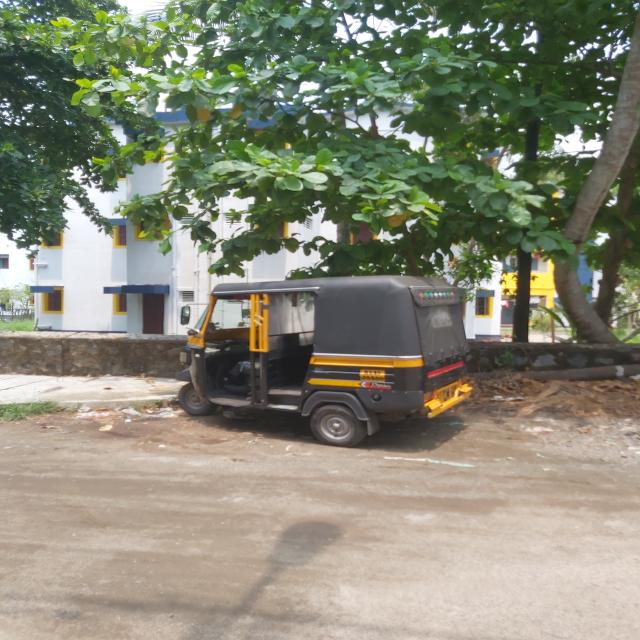Autorickshaw: (175, 241, 498, 476)
